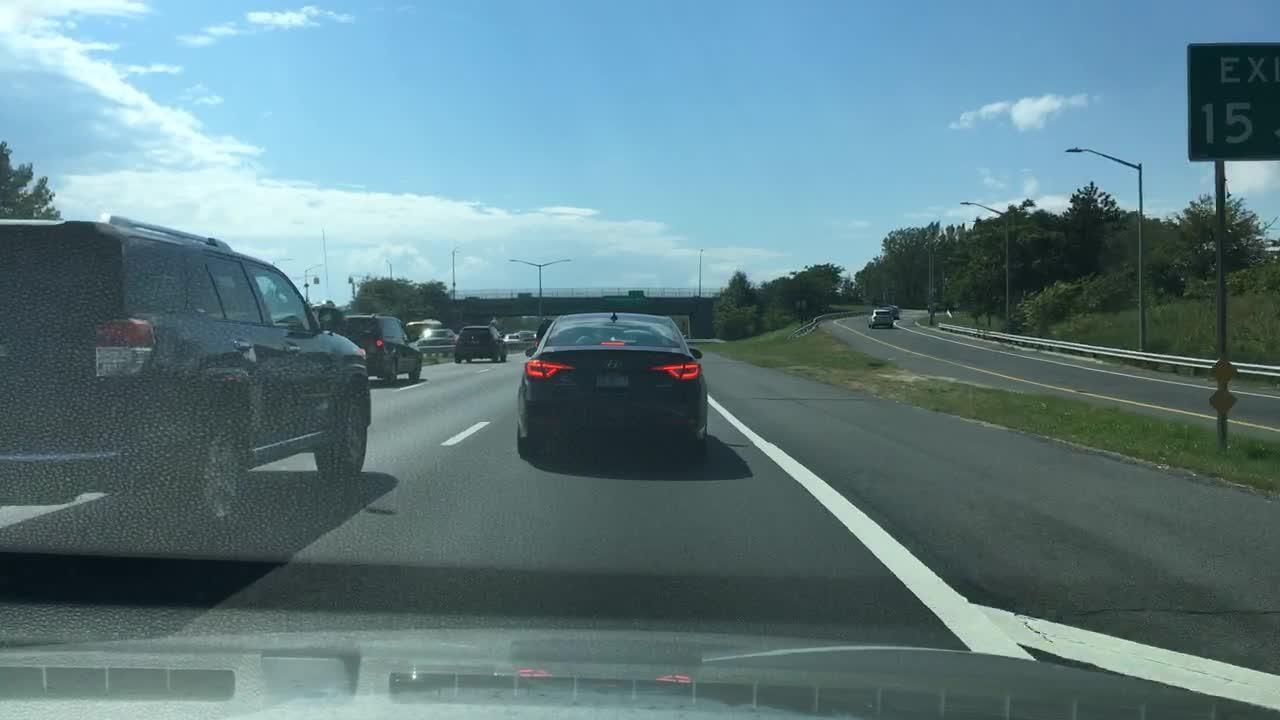Hyundai: (601, 354, 625, 372)
